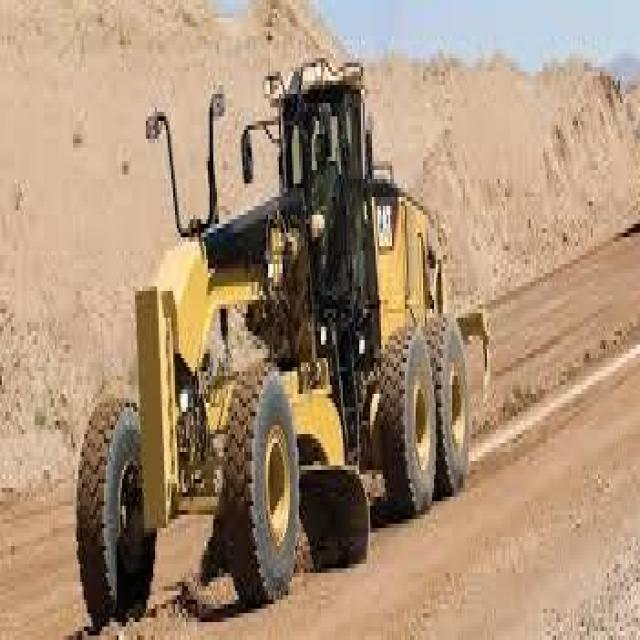Grader: (58, 58, 531, 636)
